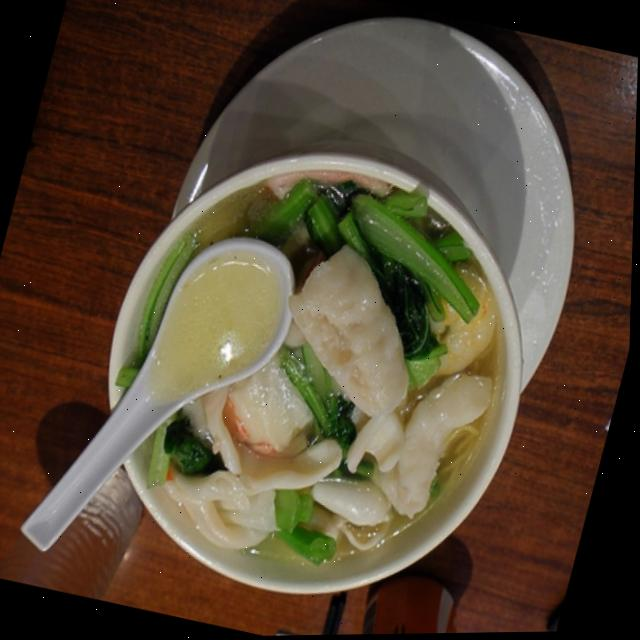汤锅炖物: (75, 121, 560, 625)
